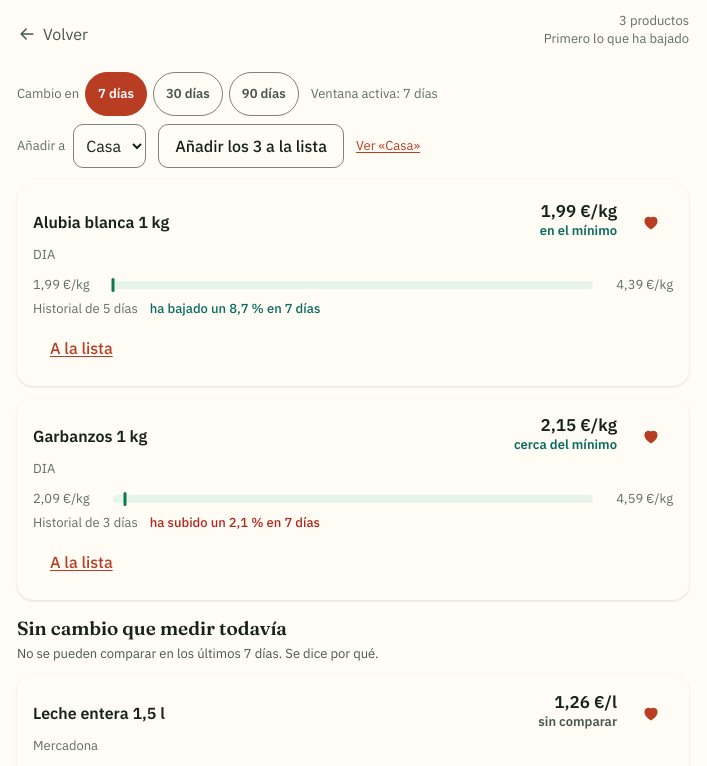
Test: Favoritos · la tarjeta del artboard › *** la ventana de 7/30/90 se mantiene y se dice con palabras ***
Expected: the link "Alubia blanca 1 kg" is shown, [33, 212, 169, 232]
Expected: the text "Ventana activa: 7 días" is shown, [311, 85, 438, 103]
Click the button "30 días" at (188, 94), box [153, 72, 223, 116]
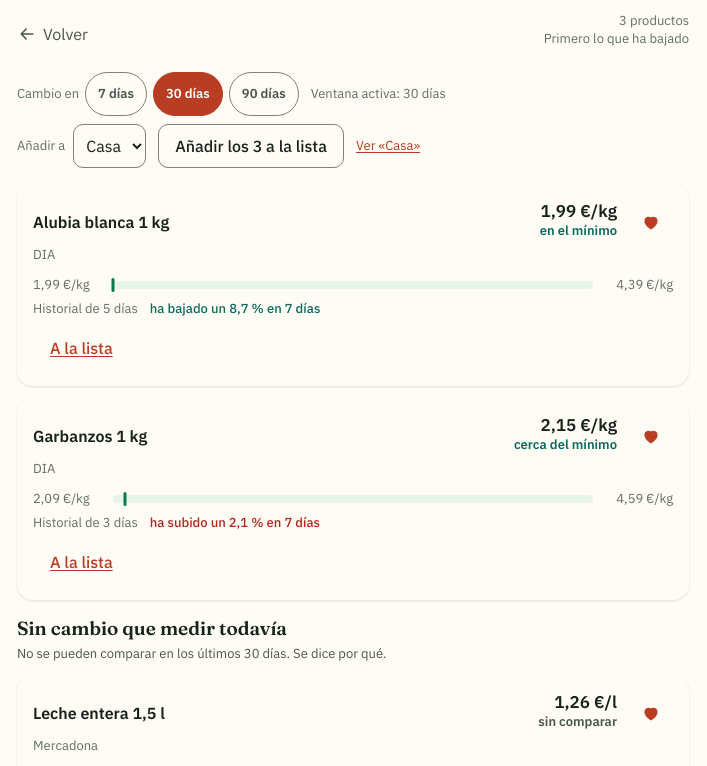
Result: the text "Ventana activa: 30 días" is shown at [311, 85, 446, 103]
